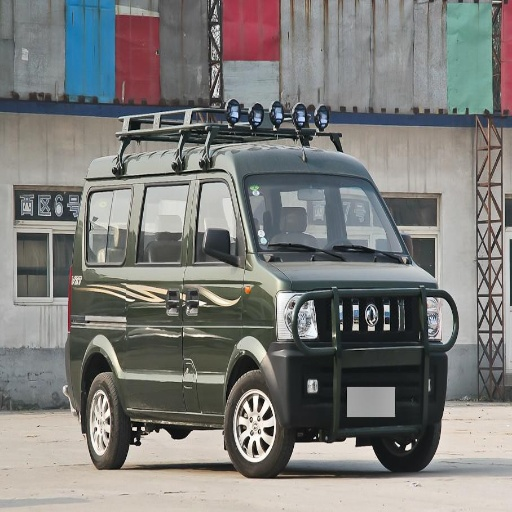front_bumper: (286, 290, 448, 431)
front_glass: (257, 174, 409, 262)
front_left_light: (425, 290, 456, 344)
front_right_door: (182, 179, 241, 316)
front_right_light: (280, 289, 322, 344)
trunk: (55, 269, 121, 394)
